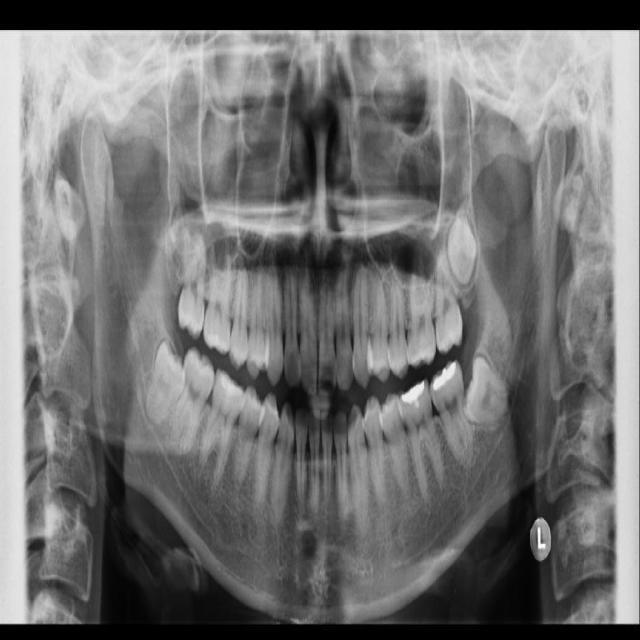52: (418, 358, 477, 415), (393, 379, 440, 429)
73: (624, 612, 628, 618)
BioHorizons Implant: (436, 247, 463, 354)
BioLife Implant: (439, 205, 484, 286)
Biomet 3i Implant: (459, 355, 522, 431)
Blue Sky Bio Implant: (424, 357, 478, 467)
Caries: (177, 226, 209, 341)
Implant: (167, 345, 220, 457)
Keystone Dental Implant: (143, 338, 193, 427)
